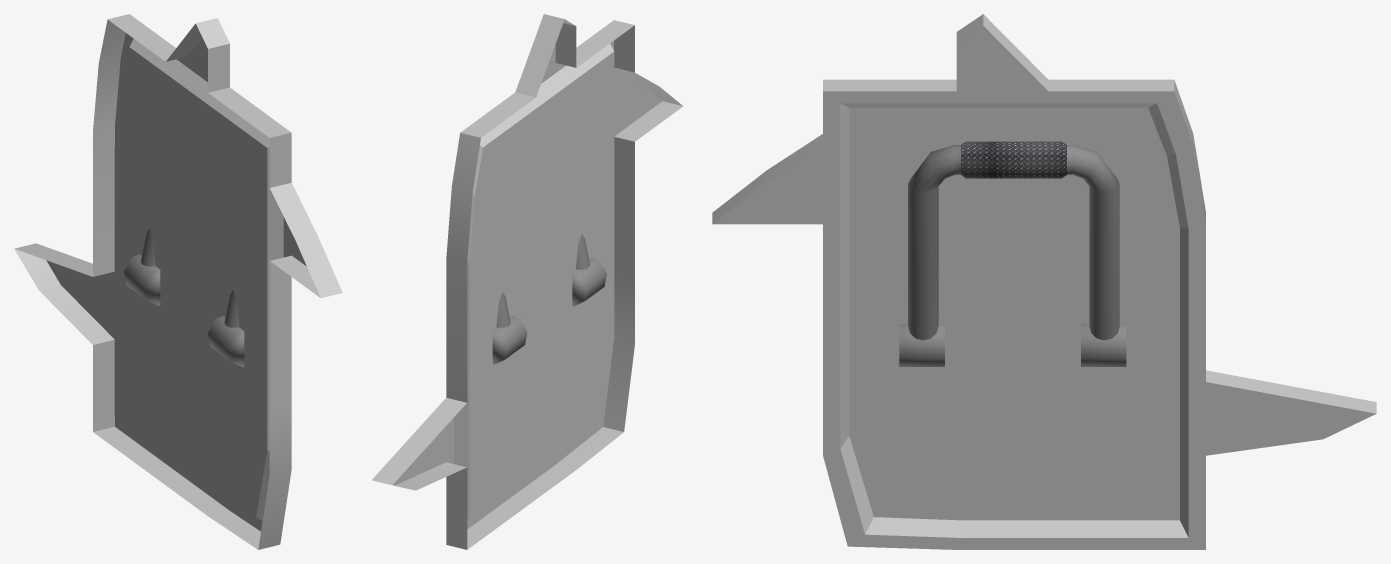
File: Lever.fbx
3 views of the same model, side by side, from view 1: azimuth 30°, elevation 25°; view 2: azimuth 150°, elevation 25°; view 3: azimuth 270°, elevation 25° (orthographic). The views are drawn at different scales.
Parts seen in each view (by area): view 1: pCube1, pCylinder1; view 2: pCube1, pCylinder1; view 3: pCube1, pCylinder1.
Part boxes in pixels (left/top/right/bottom): pCube1: left=14, top=14, right=342, bottom=549; pCylinder1: left=124, top=229, right=244, bottom=367; pCube1: left=372, top=14, right=683, bottom=549; pCylinder1: left=492, top=234, right=606, bottom=364; pCube1: left=712, top=14, right=1376, bottom=549; pCylinder1: left=899, top=141, right=1126, bottom=366.
Bounding box in the file's own units: 1.05 × 6.85 × 7.87.
